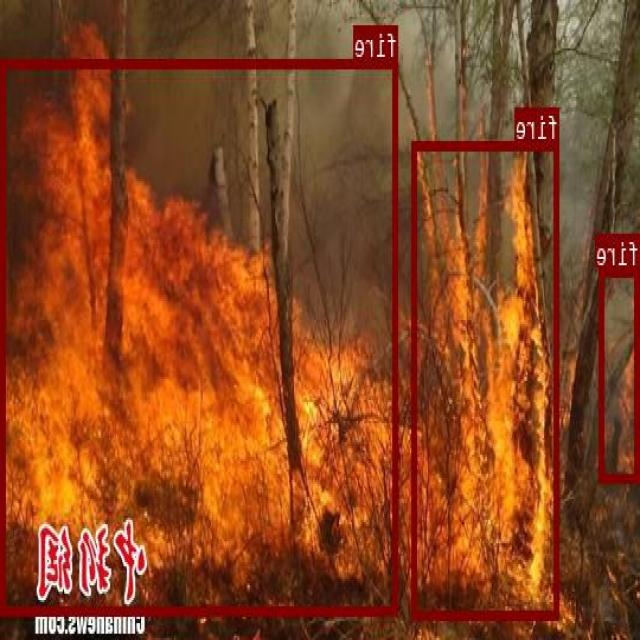fire: (2, 58, 398, 612), (413, 140, 559, 619), (601, 266, 640, 481)
